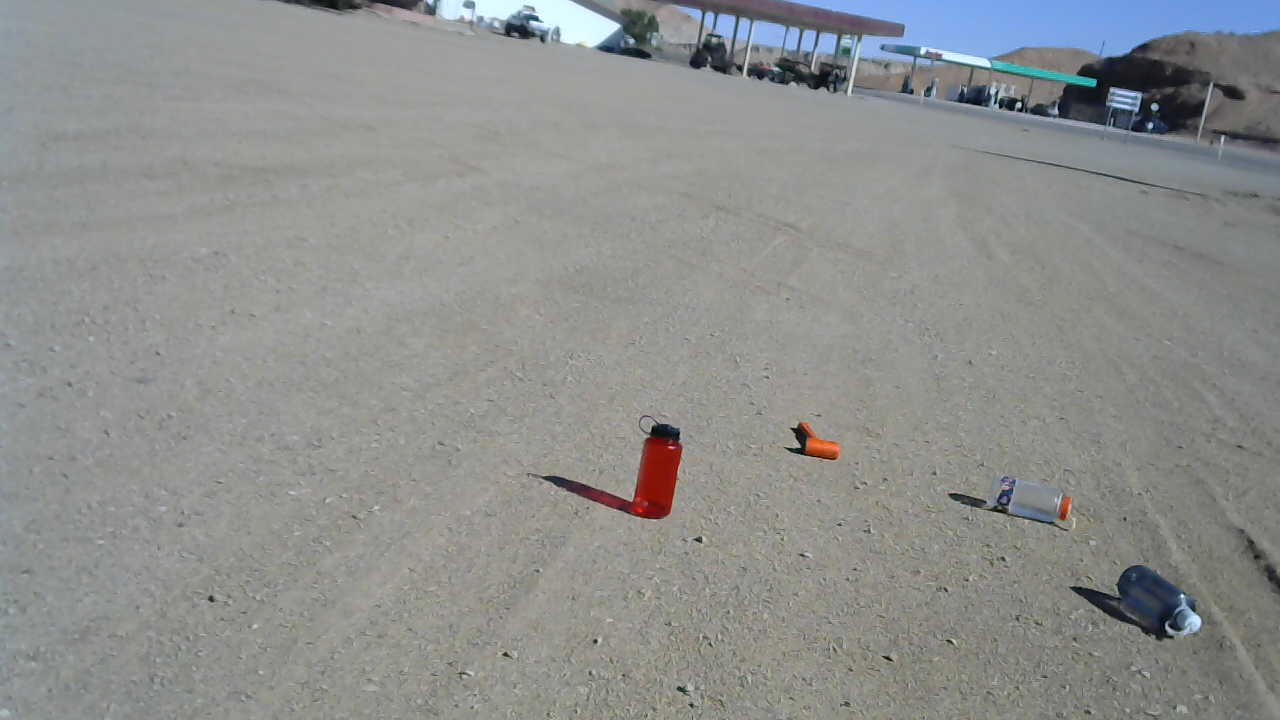bottle: (1115, 562, 1204, 640), (628, 414, 684, 519), (987, 471, 1075, 529)
hammer: (792, 418, 841, 460)
